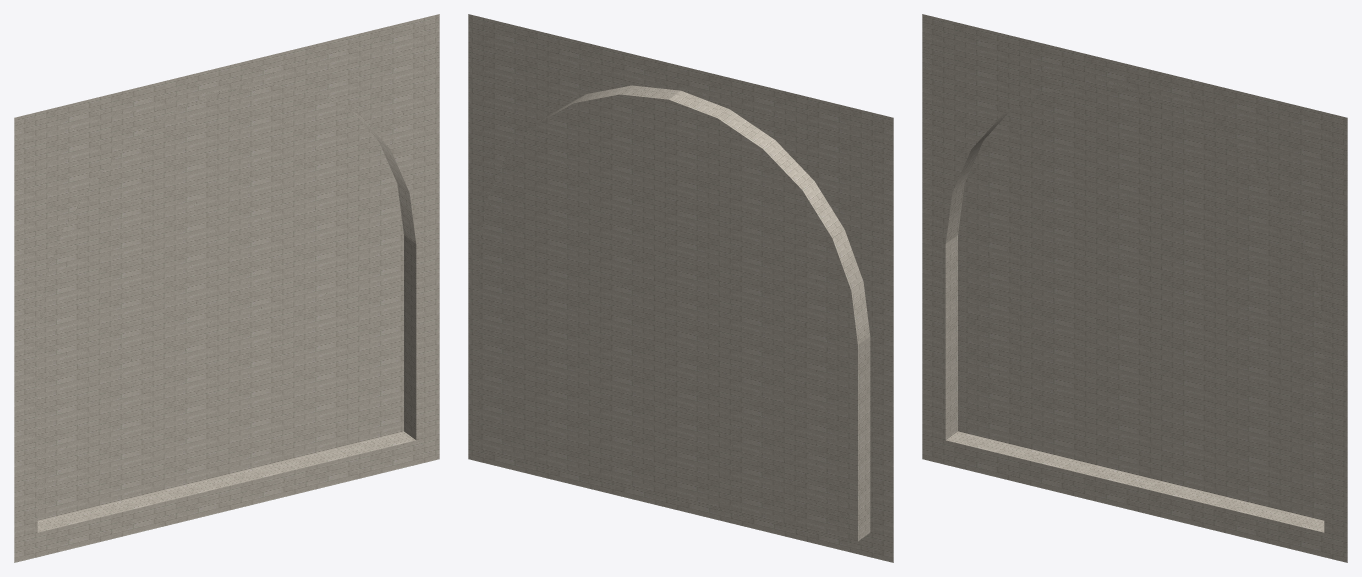
The model's file is 3SMid.fbx.
3 renders of one model, left to right at view 1: azimuth 30°, elevation 25°; view 2: azimuth 150°, elevation 25°; view 3: azimuth 330°, elevation 25°, orthographic.
Visible parts, largest first — view 1: Model; view 2: Model; view 3: Model.
Part boxes in pixels (left/top/right/bottom): Model: left=14, top=14, right=439, bottom=562; Model: left=468, top=14, right=893, bottom=562; Model: left=922, top=14, right=1347, bottom=562.
Size of the model in its own units: 3 by 3 by 0.15.
